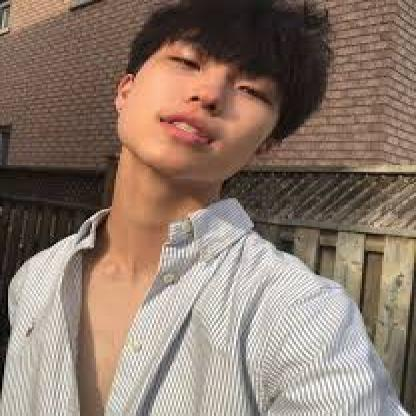person: (110, 0, 330, 198)
